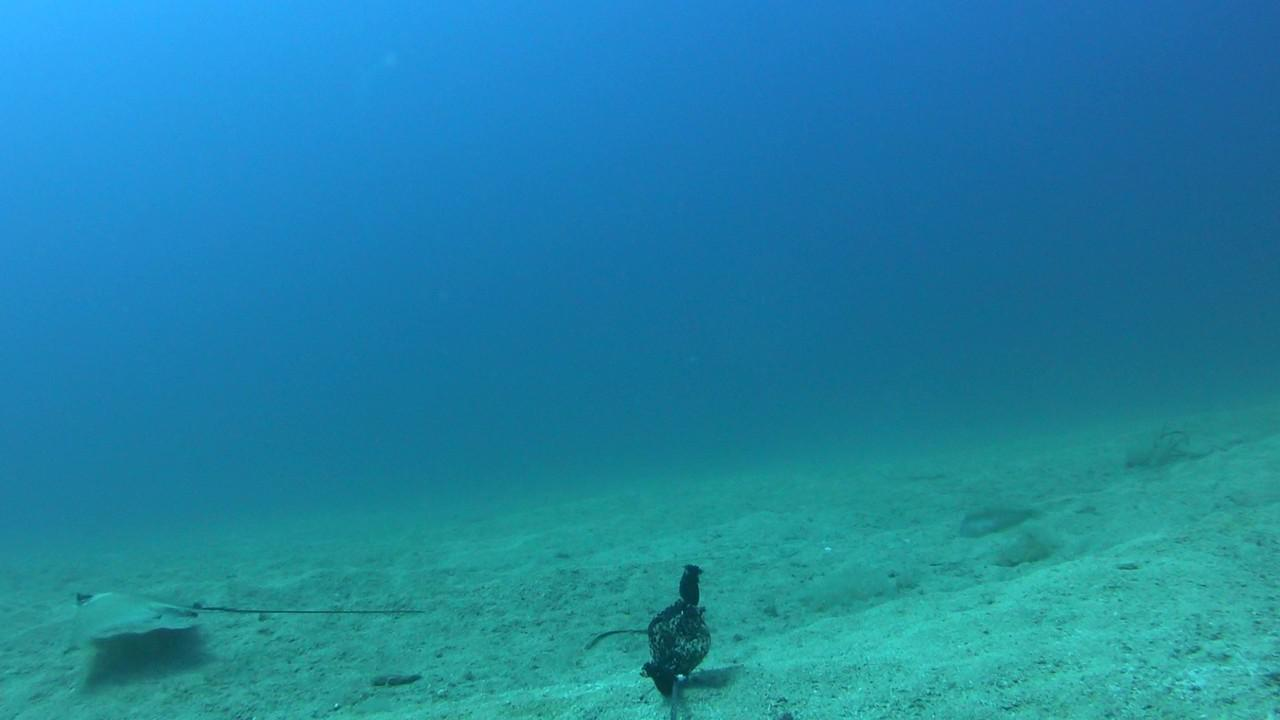myliobatis: (49, 554, 458, 681)
raor: (958, 505, 1050, 541)
